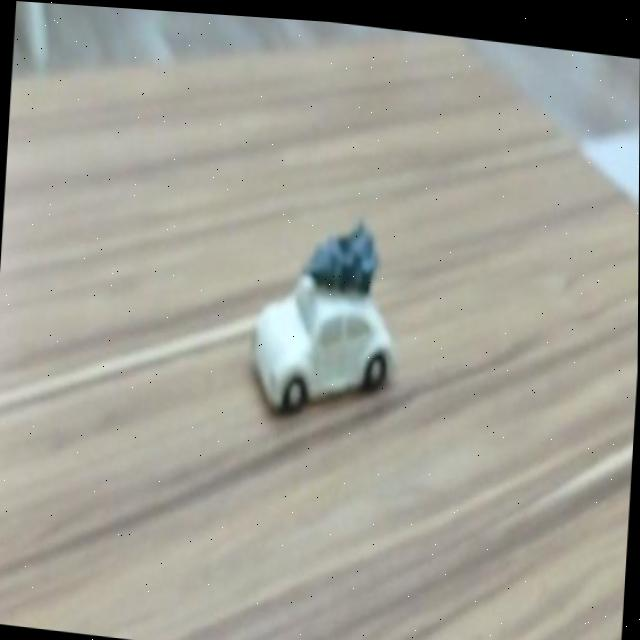vehicle: (249, 274, 394, 404)
